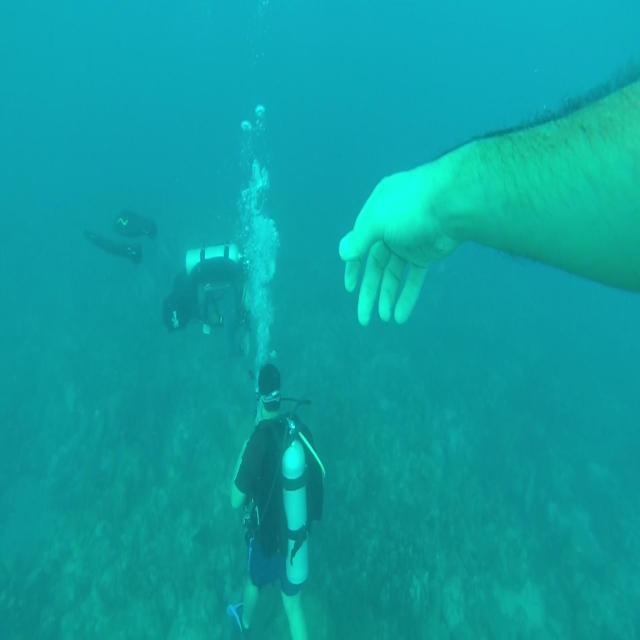human: (338, 73, 639, 327), (226, 362, 326, 638), (161, 240, 252, 358)
